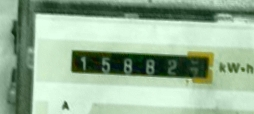1: (77, 54, 88, 73)
2: (165, 58, 177, 76)
5: (98, 56, 111, 74)
7: (187, 66, 199, 80)
8: (121, 57, 133, 75), (144, 59, 155, 75)
screen: (62, 39, 220, 89)
